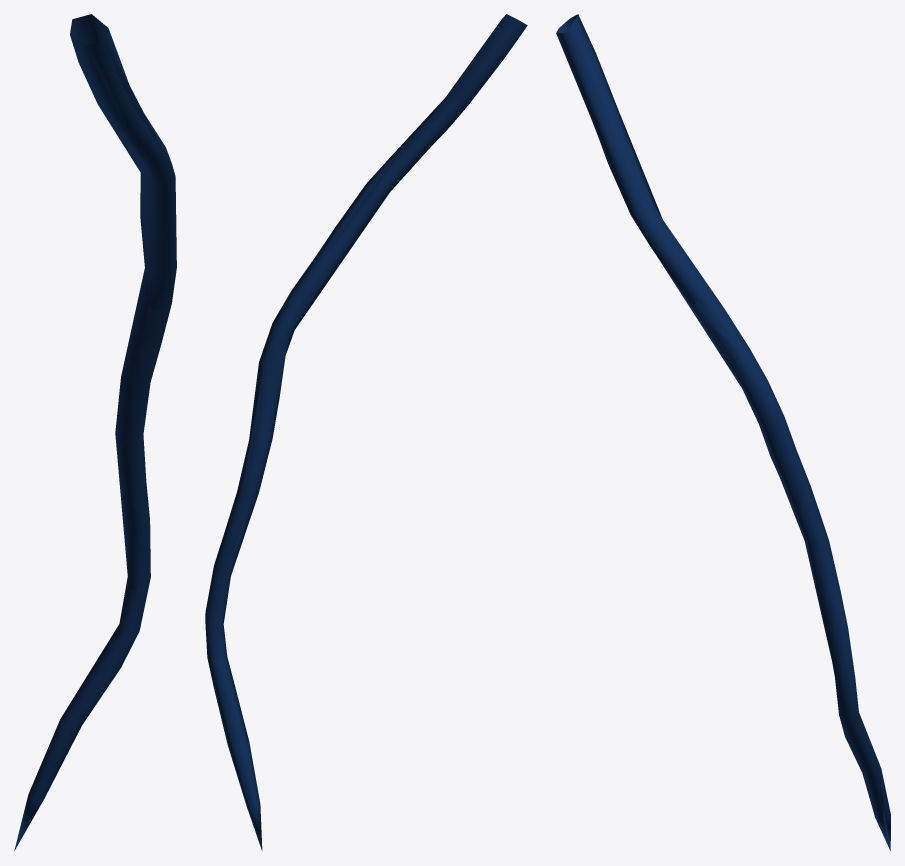
File: R vena poplitea.fbx
3 views of the same model, side by side, from view 1: azimuth 30°, elevation 25°; view 2: azimuth 150°, elevation 25°; view 3: azimuth 270°, elevation 25° (orthographic). The views are drawn at different scales.
Visible parts, largest first — view 1: R vena poplitea, R vena poplitea low; view 2: R vena poplitea, R vena poplitea low; view 3: R vena poplitea, R vena poplitea low.
Part boxes in pixels (x1,y1,x2,y2): R vena poplitea: (14,14,176,850); R vena poplitea low: (60,14,176,727); R vena poplitea: (205,14,527,850); R vena poplitea low: (206,14,506,805); R vena poplitea: (560,14,890,850); R vena poplitea low: (556,14,890,850).
Size of the model in its own units: 3.99 by 15.01 by 5.8.
